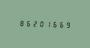eight: (17, 19, 23, 27)
nine: (66, 20, 72, 28)
one: (45, 20, 51, 28)
six: (24, 19, 30, 27), (52, 20, 58, 28), (59, 20, 65, 28)
two: (31, 19, 37, 27)
zero: (38, 19, 44, 27)
